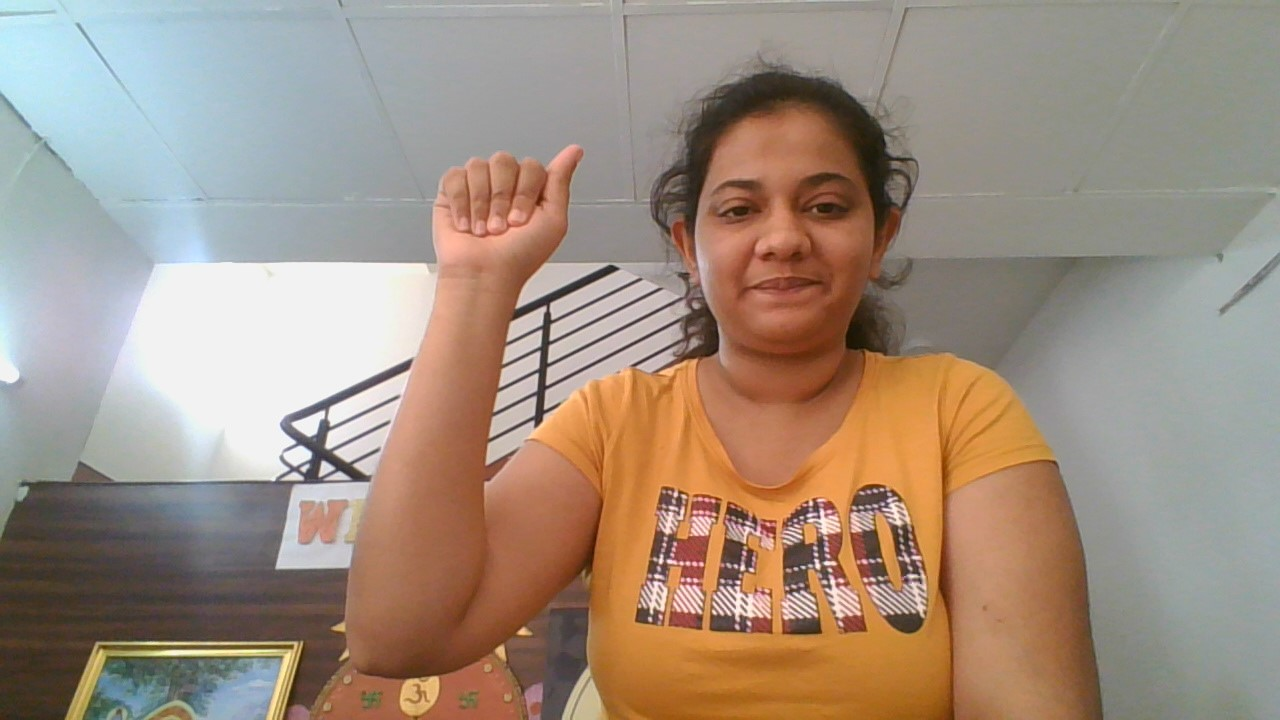a: (418, 135, 598, 305)
